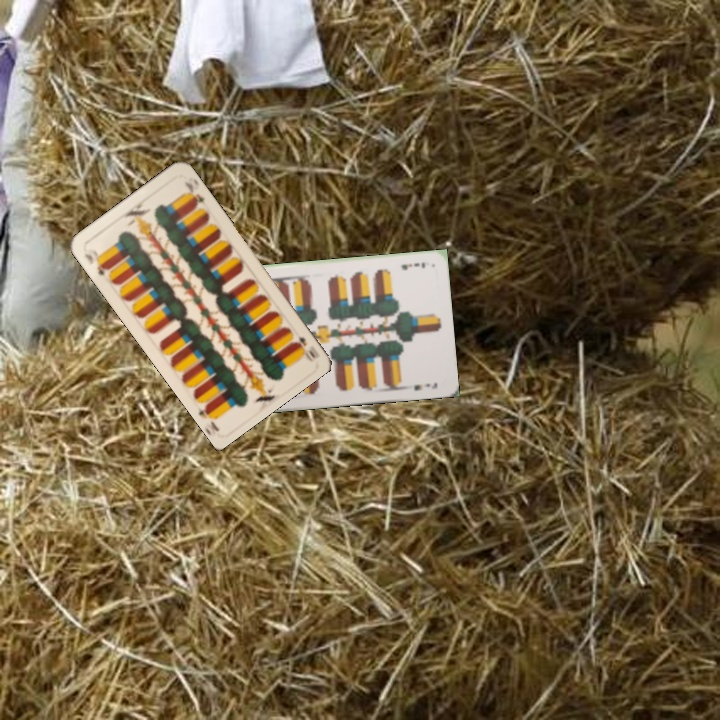E10: (80, 244, 112, 278), (292, 333, 318, 364)
E7: (398, 258, 428, 272)
